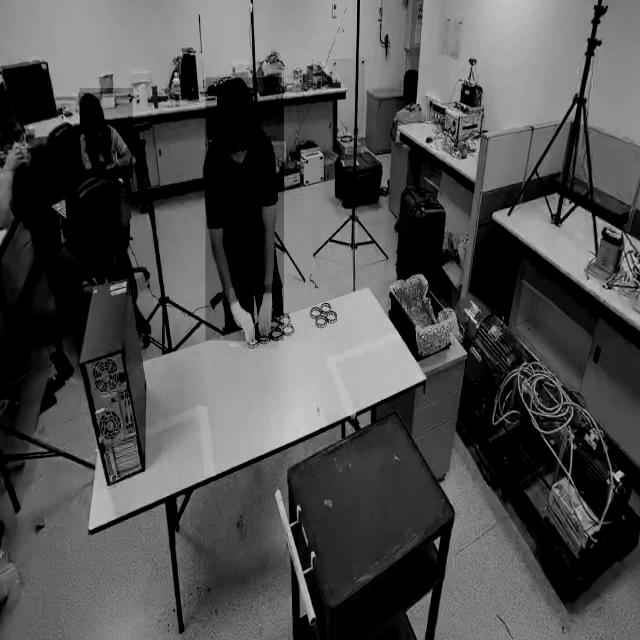face_mask: (222, 124, 252, 182), (1, 122, 27, 172)
hand_glove: (257, 284, 279, 350), (229, 288, 253, 348)
hand_noglove: (2, 142, 30, 177)
head_nohelmet: (217, 74, 254, 124), (1, 85, 20, 126), (77, 92, 103, 116)
person: (205, 78, 284, 342), (1, 118, 66, 318), (79, 88, 133, 179)
